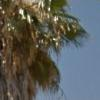Palm tree: (5, 3, 77, 100)
